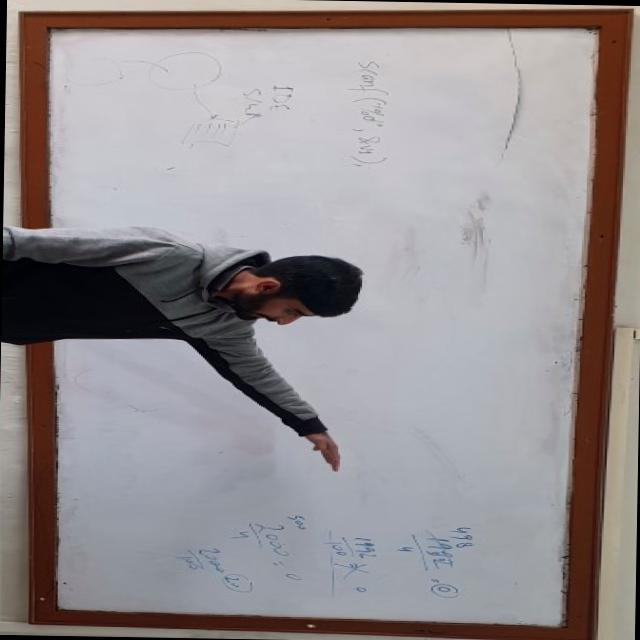Instructor: (0, 226, 384, 373)
White-board: (39, 16, 622, 634)
